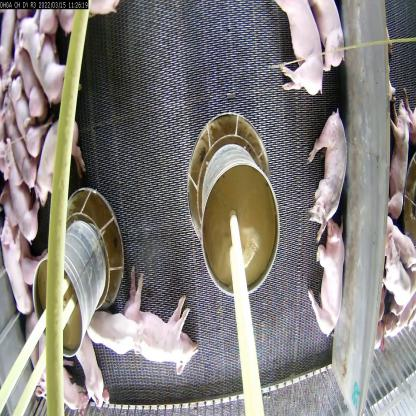Pig: (102, 277, 209, 384), (62, 325, 120, 415), (309, 223, 350, 350), (275, 0, 324, 106), (32, 115, 82, 200), (309, 109, 345, 224), (21, 5, 66, 96), (306, 0, 348, 84), (6, 217, 30, 325)
